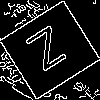Z: (25, 25, 74, 80)
